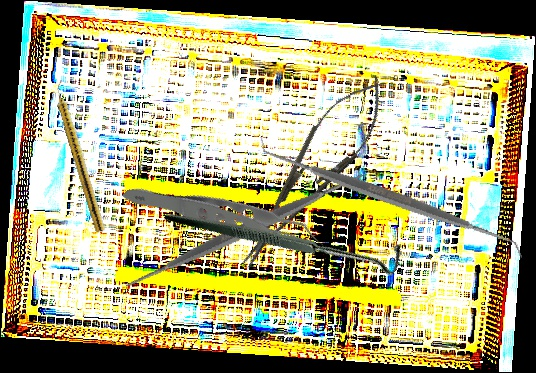Handpiece: (50, 79, 109, 234)
Hook Surgical: (163, 116, 411, 355)
Needle Holder: (222, 63, 402, 282)
Spatula Surgical: (112, 97, 378, 364), (258, 66, 525, 330)
Tissue Forceps: (120, 118, 326, 323)
